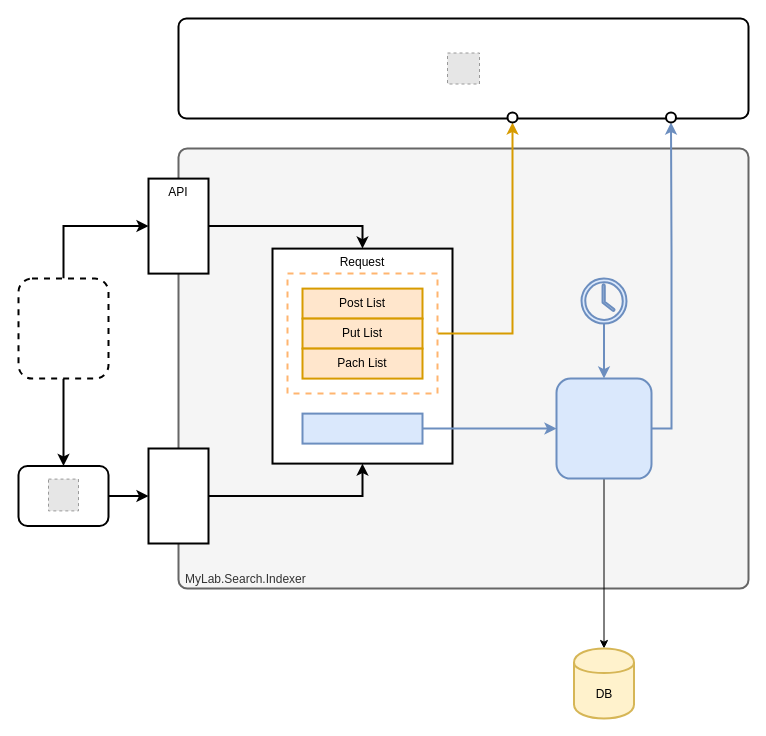
Image size: 766x736. Some labels were removed from this diagram. Grey dashed boxes stand in for pictures. Each missing label, with the centre of its shape:
App: (63,328)
Kick List: (362,428)
Rabbit Input: (178,495)
Sync: (603,428)
